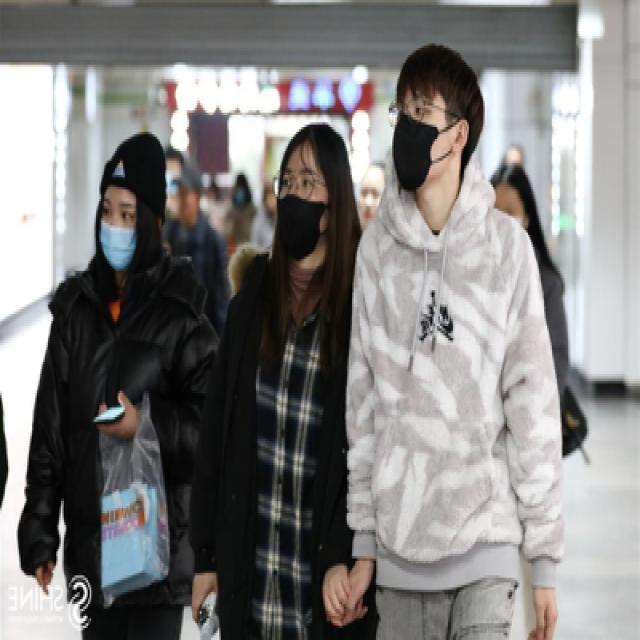with_mask: (391, 94, 452, 190), (278, 161, 326, 261), (101, 192, 136, 268)
without_mask: (357, 185, 384, 232)
